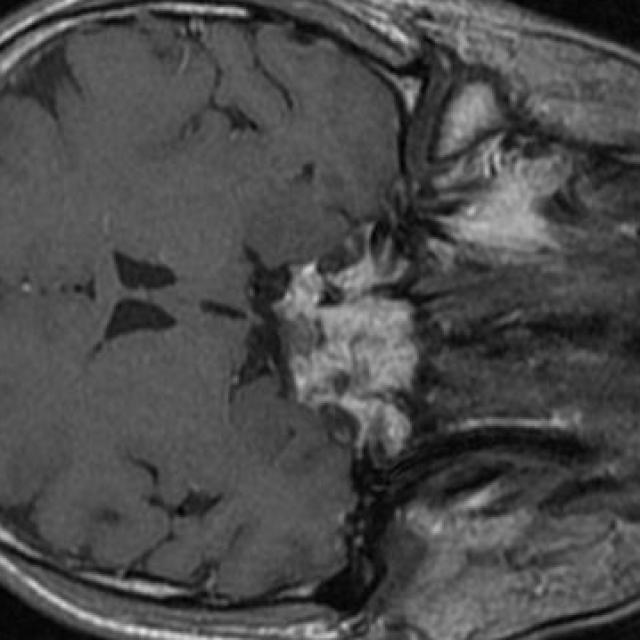pituitary: (275, 255, 417, 442)
